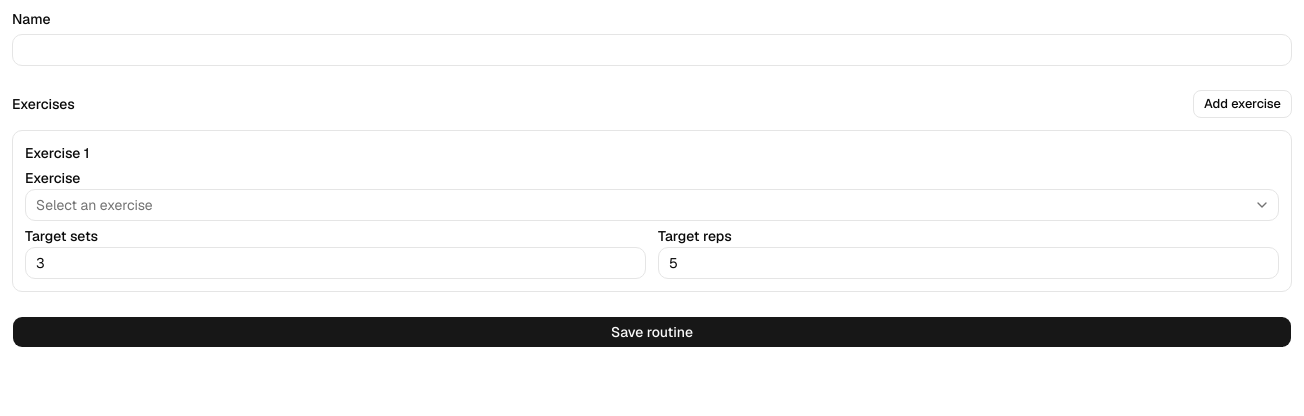
Test: RoutineForm › shows a validation error when submitting without an exercise selected
Click the button "Save routine" at (652, 332), box [12,316,1292,348]
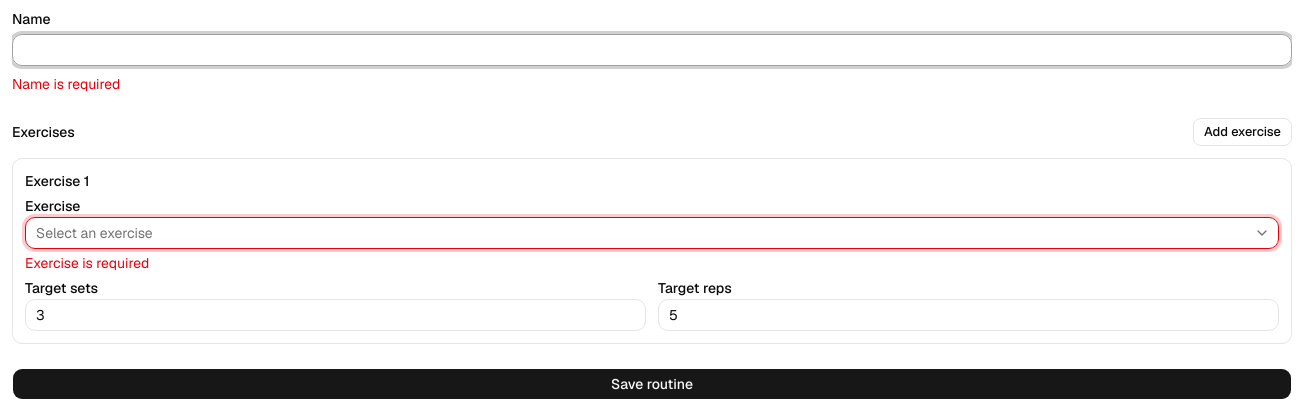
Check: the text "Exercise is required" is shown, box [25,254,149,272]
